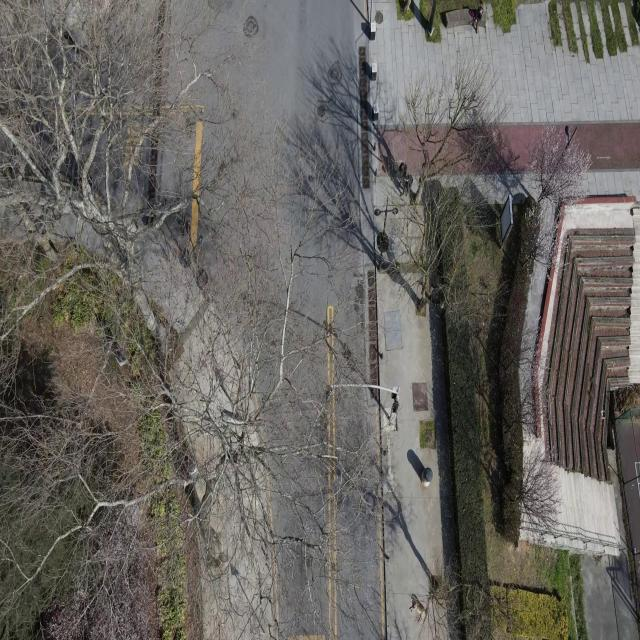p3rson: (400, 174, 413, 197), (474, 6, 483, 34), (398, 162, 406, 186)
